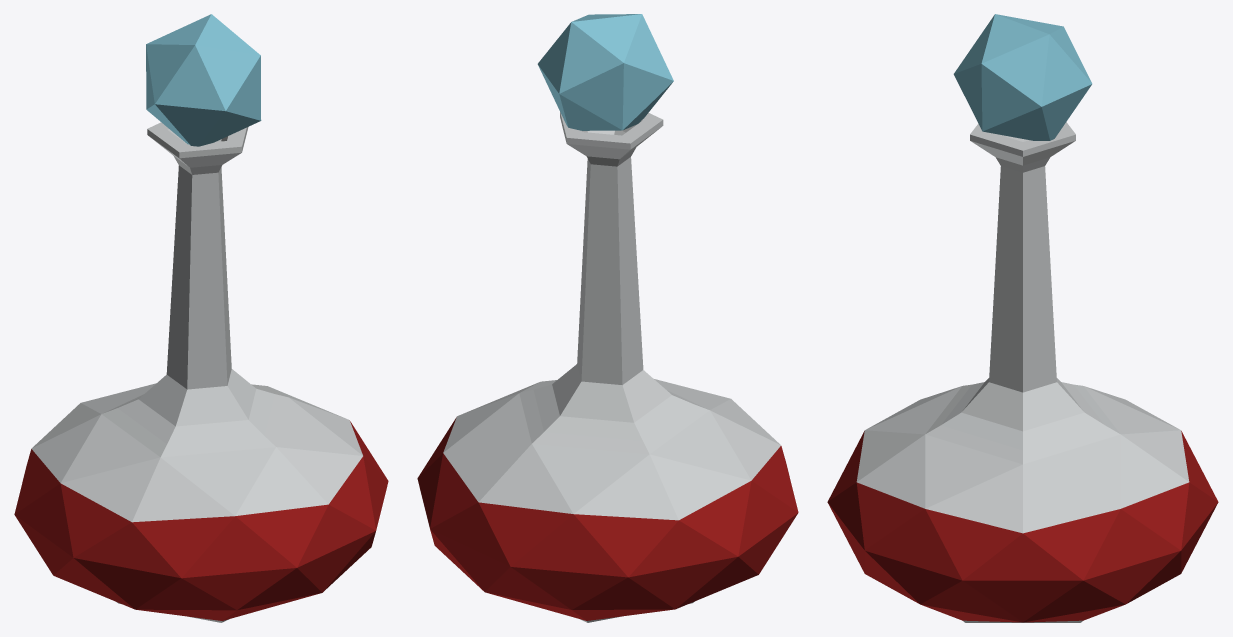
The model's file is WF_LP_HT_Props_PotionBottle.001.fbx.
3 renders of one model, left to right at view 1: azimuth 30°, elevation 25°; view 2: azimuth 150°, elevation 25°; view 3: azimuth 270°, elevation 25°, orthographic. The views are drawn at different scales.
Parts seen in each view (by area): view 1: WF_LP_HT_Props_PotionBottle.001; view 2: WF_LP_HT_Props_PotionBottle.001; view 3: WF_LP_HT_Props_PotionBottle.001.
Part boxes in pixels (<box>): WF_LP_HT_Props_PotionBottle.001: <box>14,14,388,622</box>; WF_LP_HT_Props_PotionBottle.001: <box>417,14,798,622</box>; WF_LP_HT_Props_PotionBottle.001: <box>827,14,1218,622</box>.
Bounding box in the file's own units: 0.1676 × 0.2817 × 0.1762.
